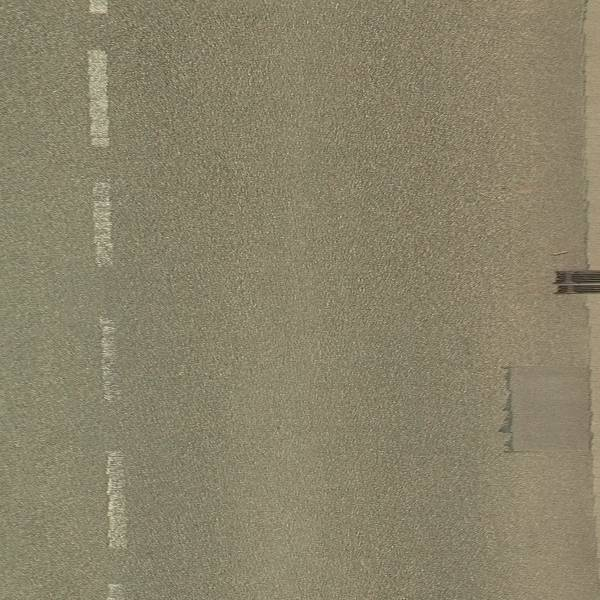road_damage: (494, 354, 600, 462)
